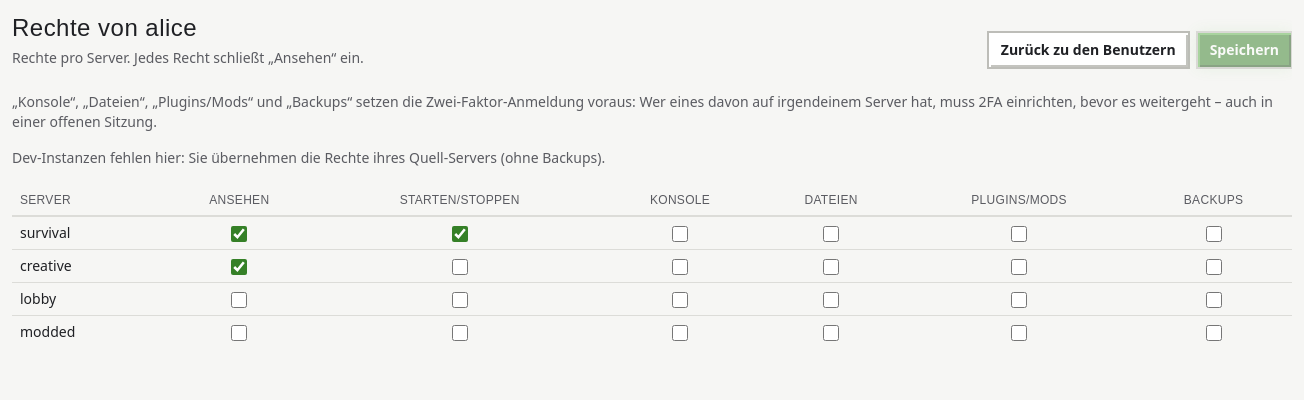
Test case: UserPermissionsPage › shows the matrix and saves changed grants
Expected: the heading "Rechte von alice" is shown, [12,14,197,41]
Expected: the checkbox named "survival: Starten/Stoppen" is checked, [452,226,468,242]
Click the checkbox named "lobby: Starten/Stoppen". click: point(460, 300)
box: [452,292,468,308]
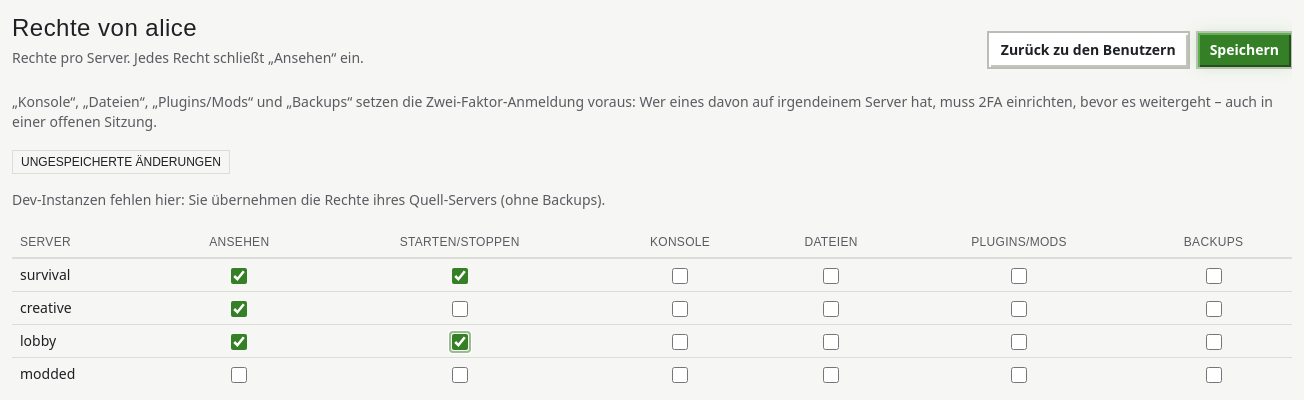
Expected: the checkbox named "lobby: Ansehen" is checked, [231,334,247,350]
Expected: the text "Ungespeicherte Änderungen" is shown, [12,150,230,174]
Click the button "Speichern". click: point(1244, 50)
box: [1197,32,1292,68]
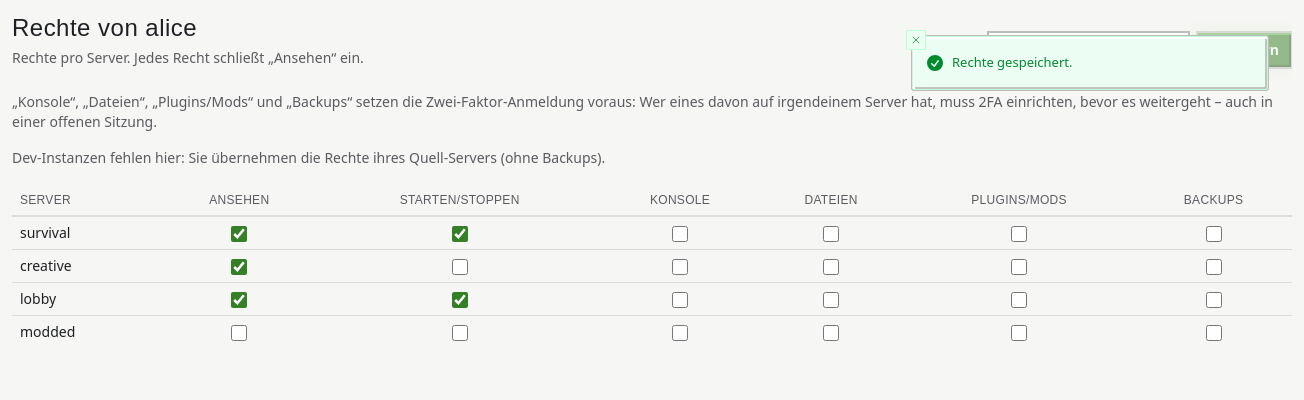
Expected: the text "Rechte gespeichert." is shown, [952,53,1072,72]
Expected: the button "Speichern" is disabled, [1197,32,1292,68]
